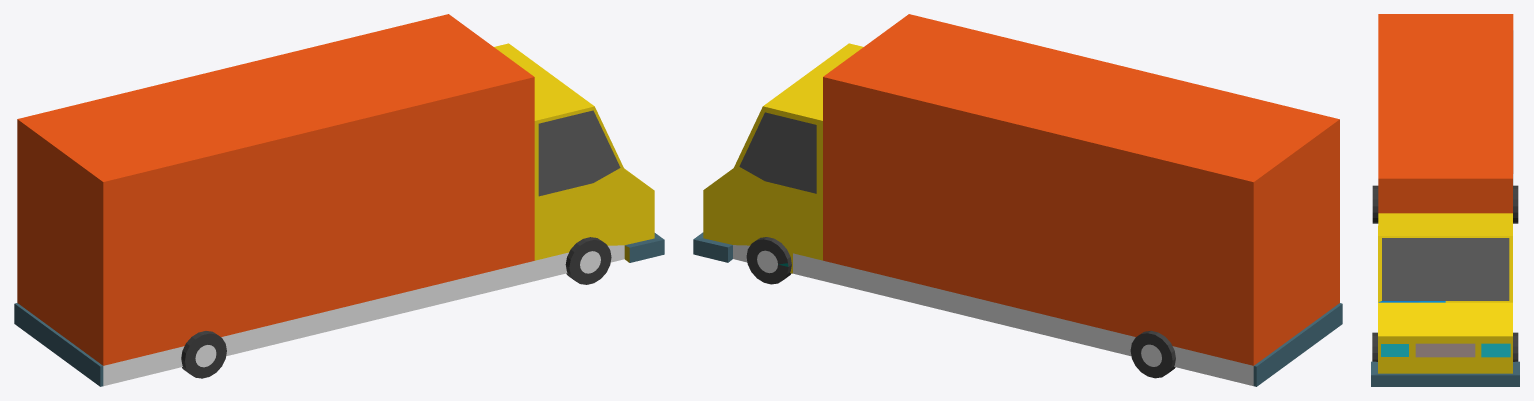
Rendered from car_1_1.dae.
3 views of the same model, side by side, from view 1: azimuth 30°, elevation 25°; view 2: azimuth 150°, elevation 25°; view 3: azimuth 270°, elevation 25° (orthographic). The views are drawn at different scales.
Parts seen in each view (by area): view 1: Car_08.007; view 2: Car_08.007; view 3: Car_08.007.
Part boxes in pixels (bbox=[...]): Car_08.007: bbox=[14, 14, 664, 386]; Car_08.007: bbox=[693, 14, 1342, 386]; Car_08.007: bbox=[1371, 14, 1519, 386].
Bounding box in the file's own units: 8.09 × 2.38 × 3.
Materials: 1 (1 with a texture image).
